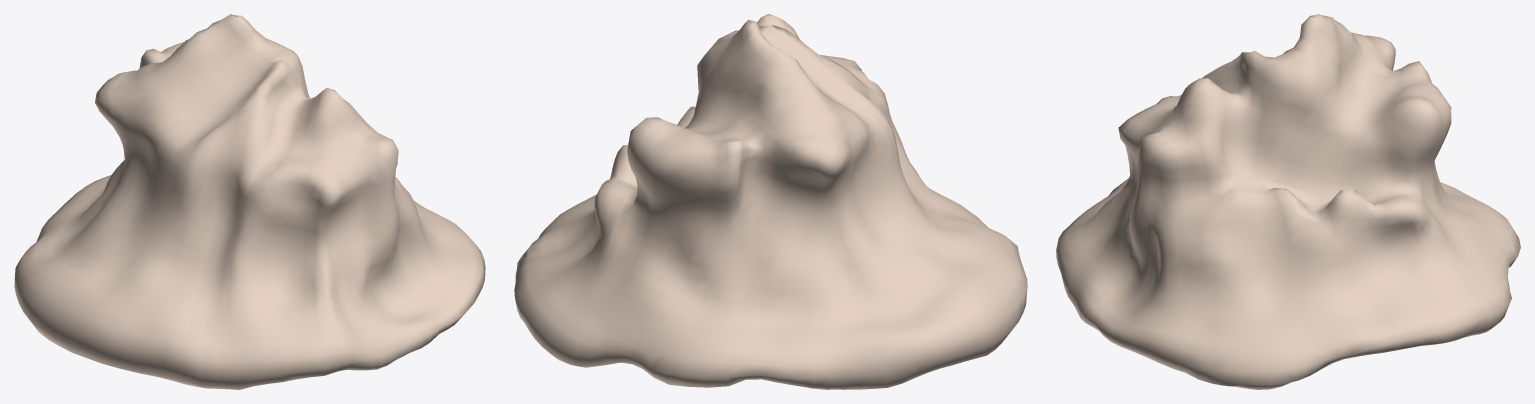
Rendered from Rock_09_BIG.fbx.
3 renders of one model, left to right at view 1: azimuth 30°, elevation 25°; view 2: azimuth 150°, elevation 25°; view 3: azimuth 270°, elevation 25°, orthographic. The views are drawn at different scales.
Visible parts, largest first — view 1: Rock_09; view 2: Rock_09; view 3: Rock_09.
Part boxes in pixels (x1=…): Rock_09: x1=14, y1=14, x2=485, y2=389; Rock_09: x1=514, y1=14, x2=1027, y2=389; Rock_09: x1=1056, y1=14, x2=1520, y2=389.
Bounding box in the file's own units: 62896 × 39934 × 59279.
